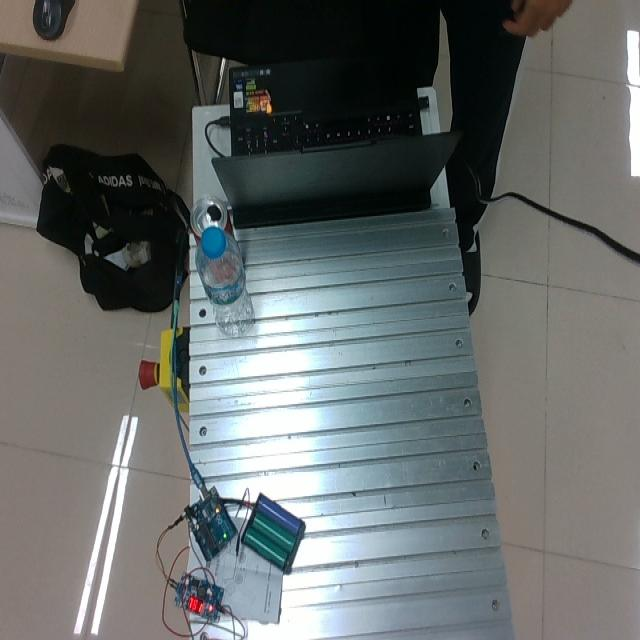coca: (189, 195, 231, 242)
lavie: (196, 221, 254, 336)
